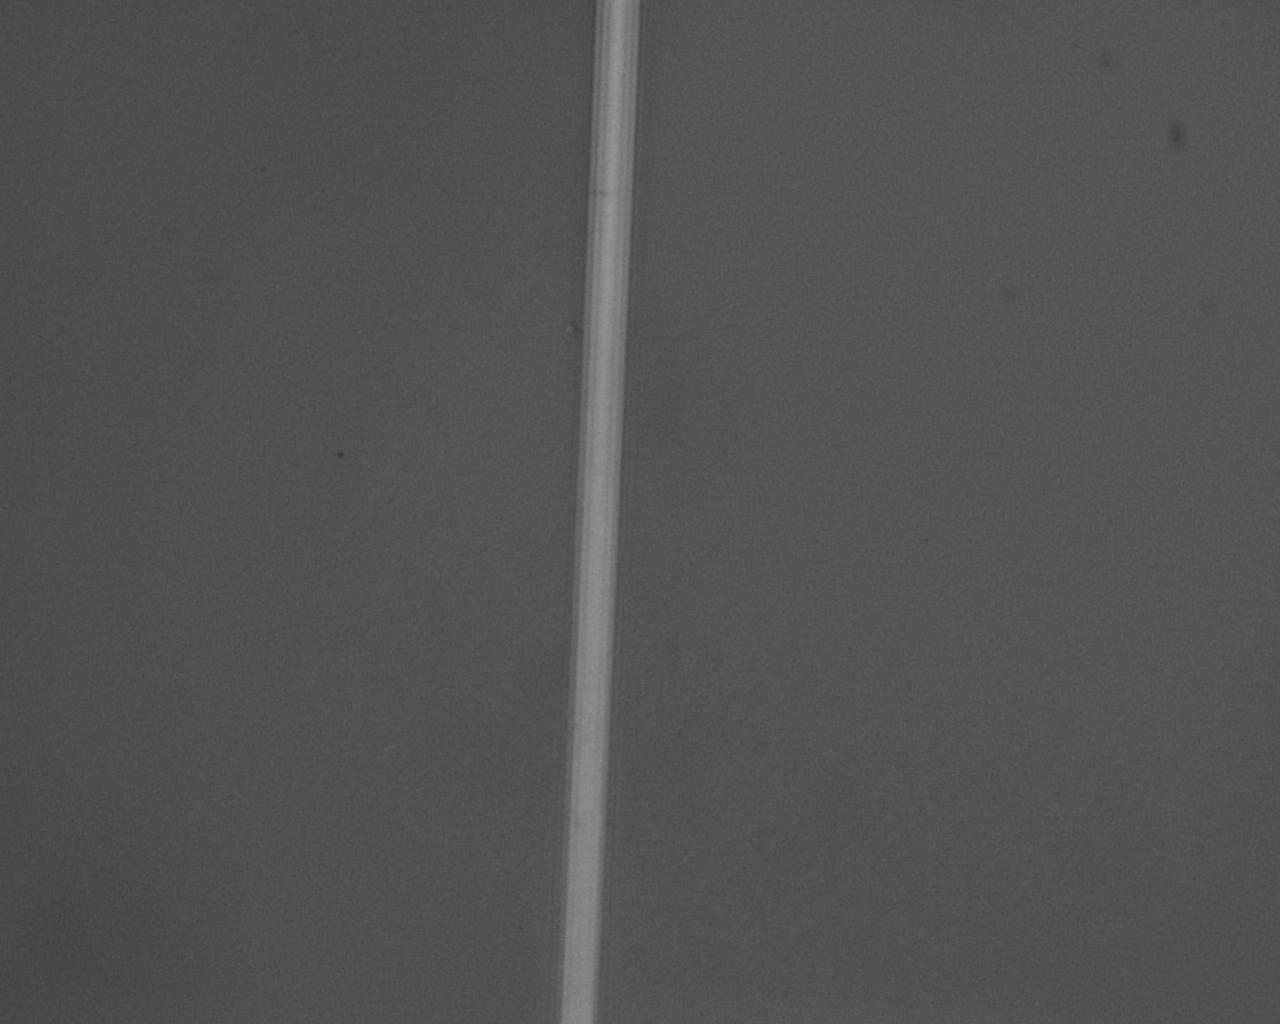fiber: (127, 324, 1151, 984)
